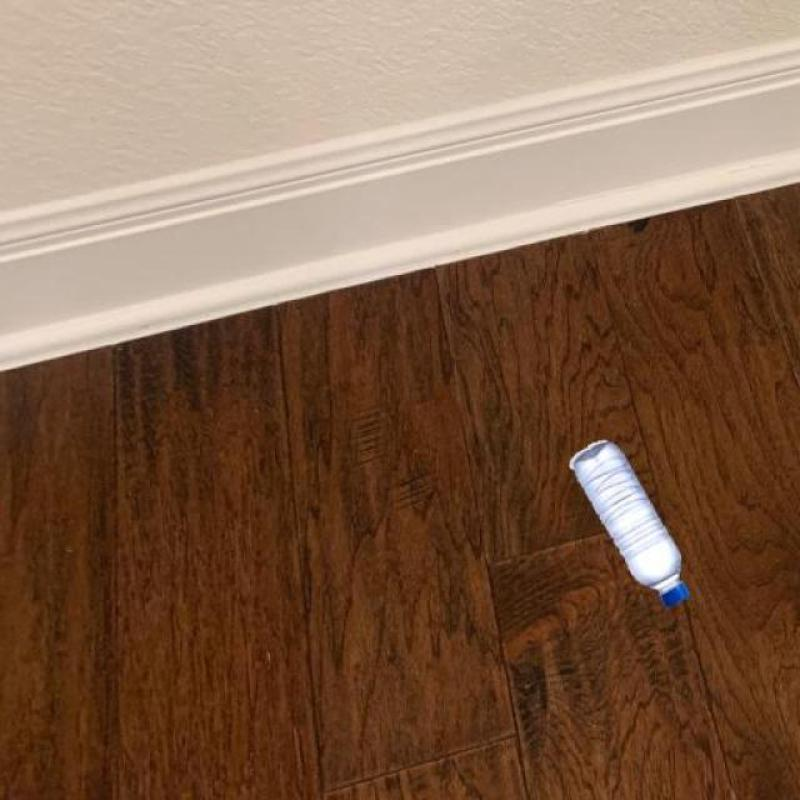botella: (570, 435, 694, 609)
